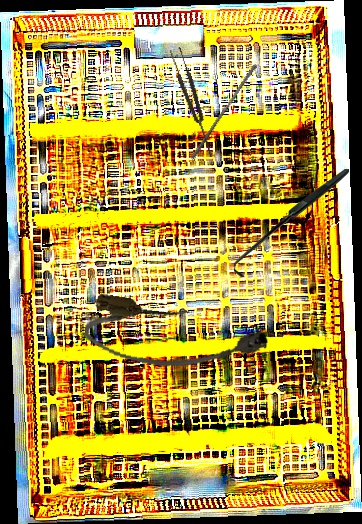Cannula: (80, 291, 272, 385)
Hook Surgical: (234, 169, 349, 277)
Pusher: (190, 61, 258, 163)
Tissue Forceps: (168, 46, 218, 160)
